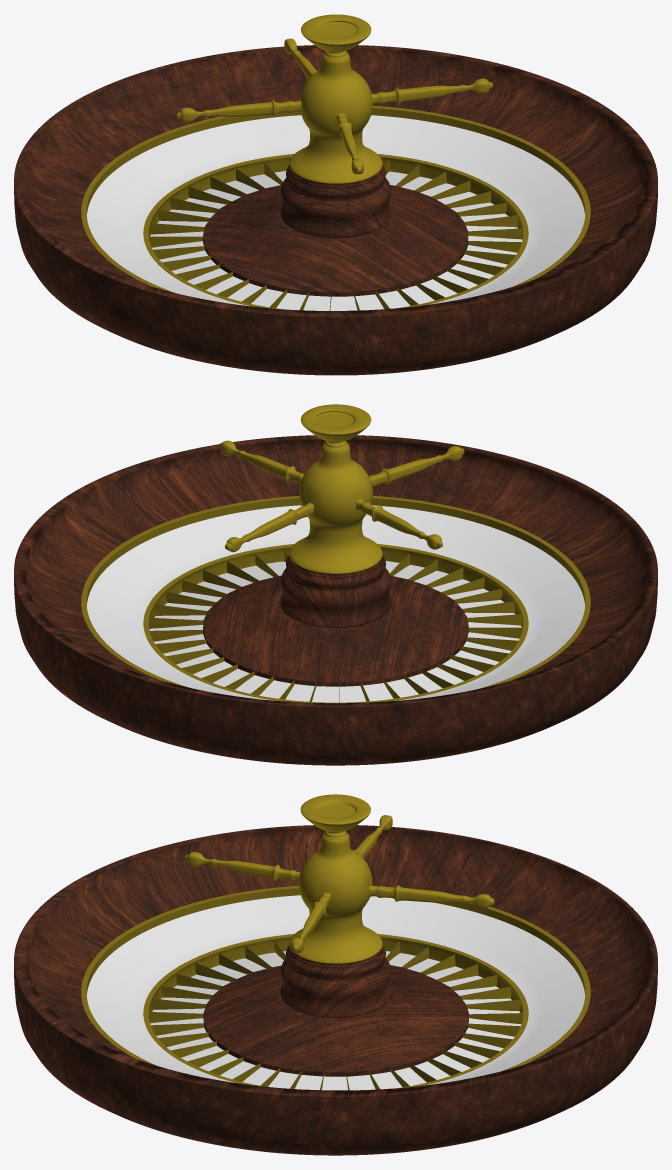
Rendered from RouletteNew.fbx.
3 views of the same model, one above another, from view 1: azimuth 30°, elevation 25°; view 2: azimuth 150°, elevation 25°; view 3: azimuth 270°, elevation 25° (orthographic).
Visible parts, largest first — view 1: Circle, Circle.001, Circle.002; view 2: Circle, Circle.001, Circle.002; view 3: Circle, Circle.001, Circle.002.
Boxes of the visible parts, x1=… form: Circle: x1=14, y1=45, x2=657, y2=375; Circle.001: x1=143, y1=14, x2=528, y2=310; Circle.002: x1=81, y1=105, x2=590, y2=306; Circle: x1=14, y1=435, x2=657, y2=765; Circle.001: x1=143, y1=404, x2=528, y2=703; Circle.002: x1=81, y1=496, x2=590, y2=700; Circle: x1=14, y1=825, x2=657, y2=1155; Circle.001: x1=143, y1=794, x2=528, y2=1090; Circle.002: x1=81, y1=885, x2=590, y2=1085.
Bounding box in the file's own units: 419 × 162 × 419.
